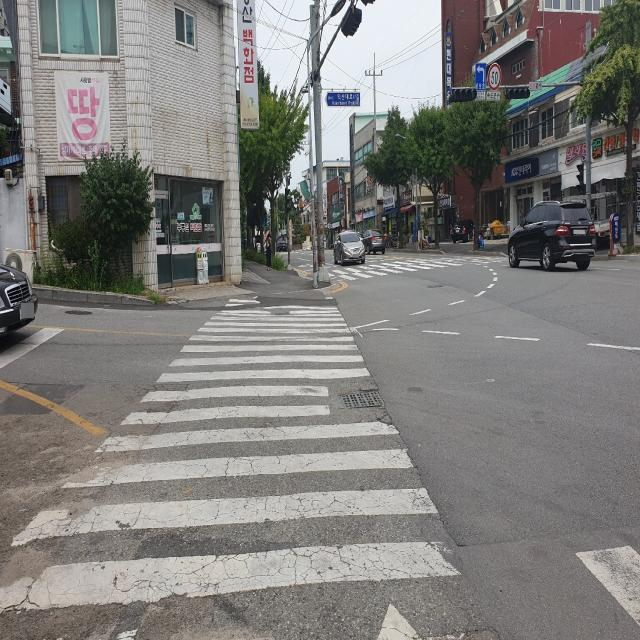횡단보도: (0, 296, 460, 639), (317, 248, 499, 284)
